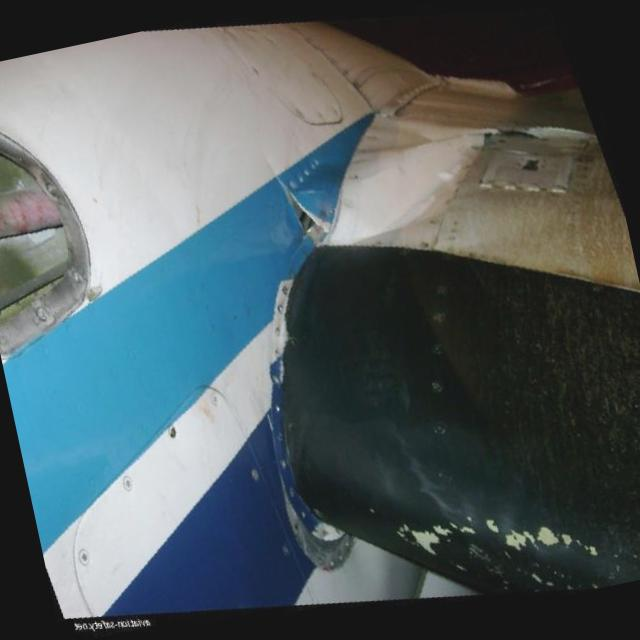crack: (278, 172, 334, 248)
